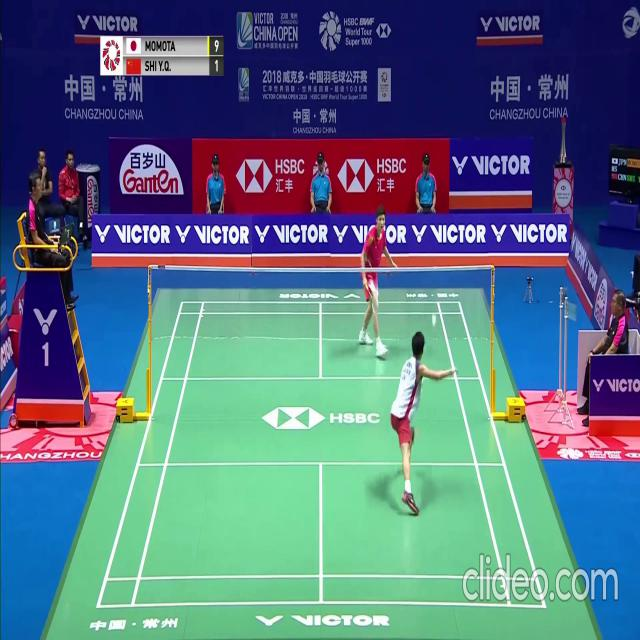Shuttlecock: (431, 319, 436, 326)
